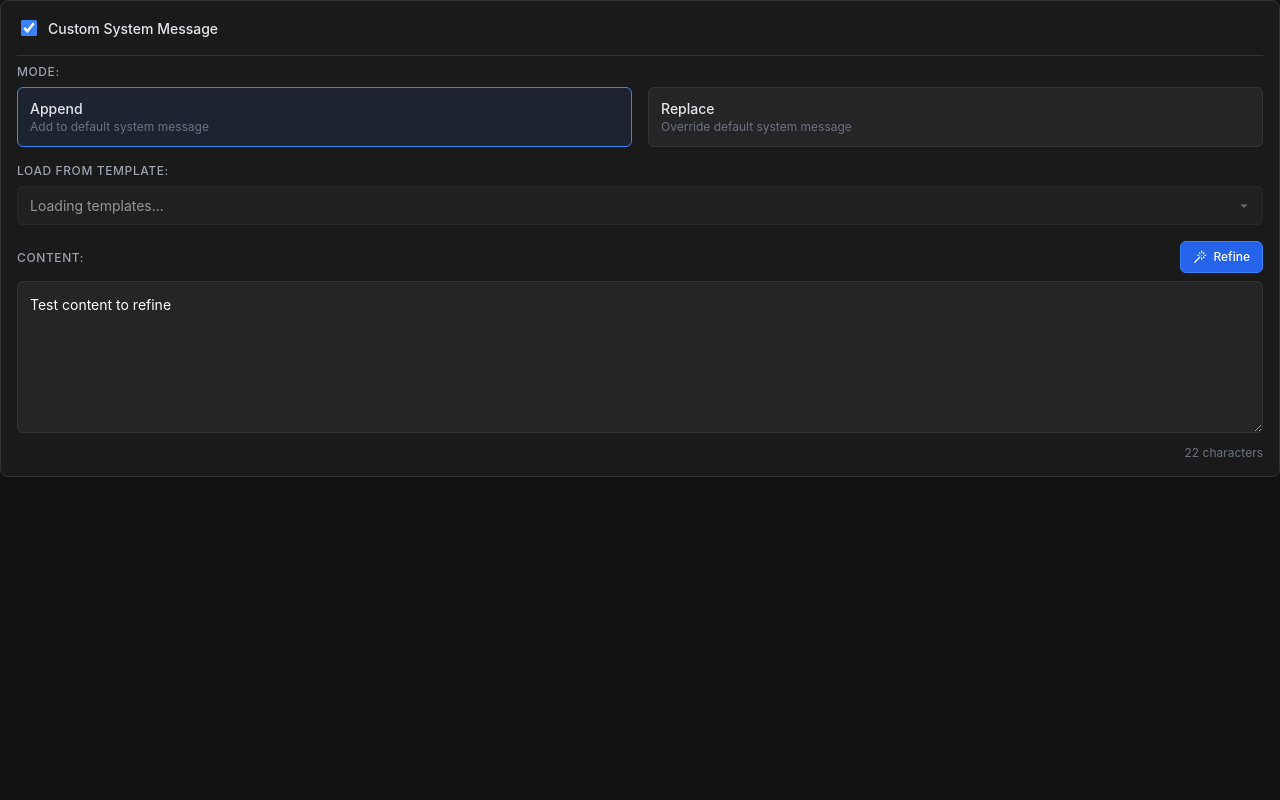
Test case: SystemMessageEditor › refine button › allows dismissing error message
The image size is (1280, 800).
Click the button with test id "refine-button". click: x=1222, y=257
box: [1180,241,1263,273]
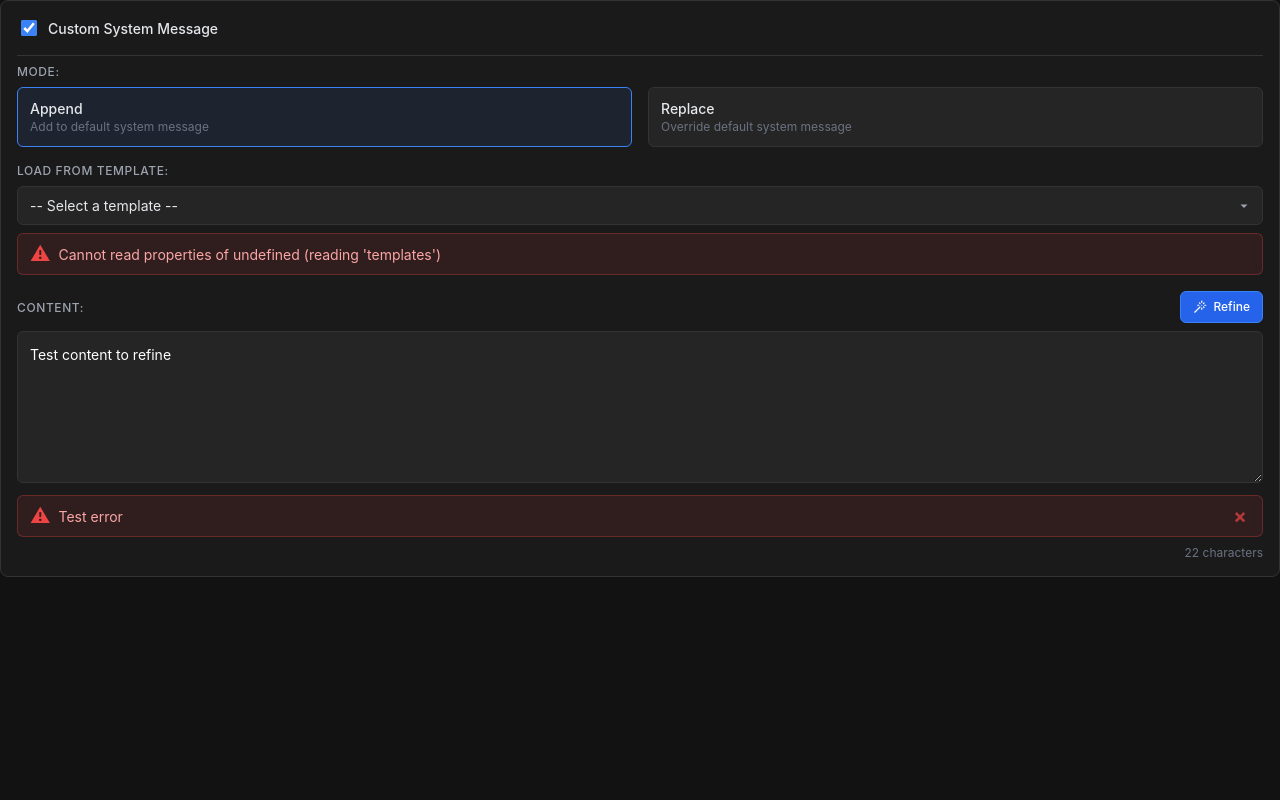
Expected: the message "⚠ Test error ×" is shown, [17,495,1263,537]
Click the button named "Dismiss error". click: x=1240, y=516
box: [1230,506,1250,526]
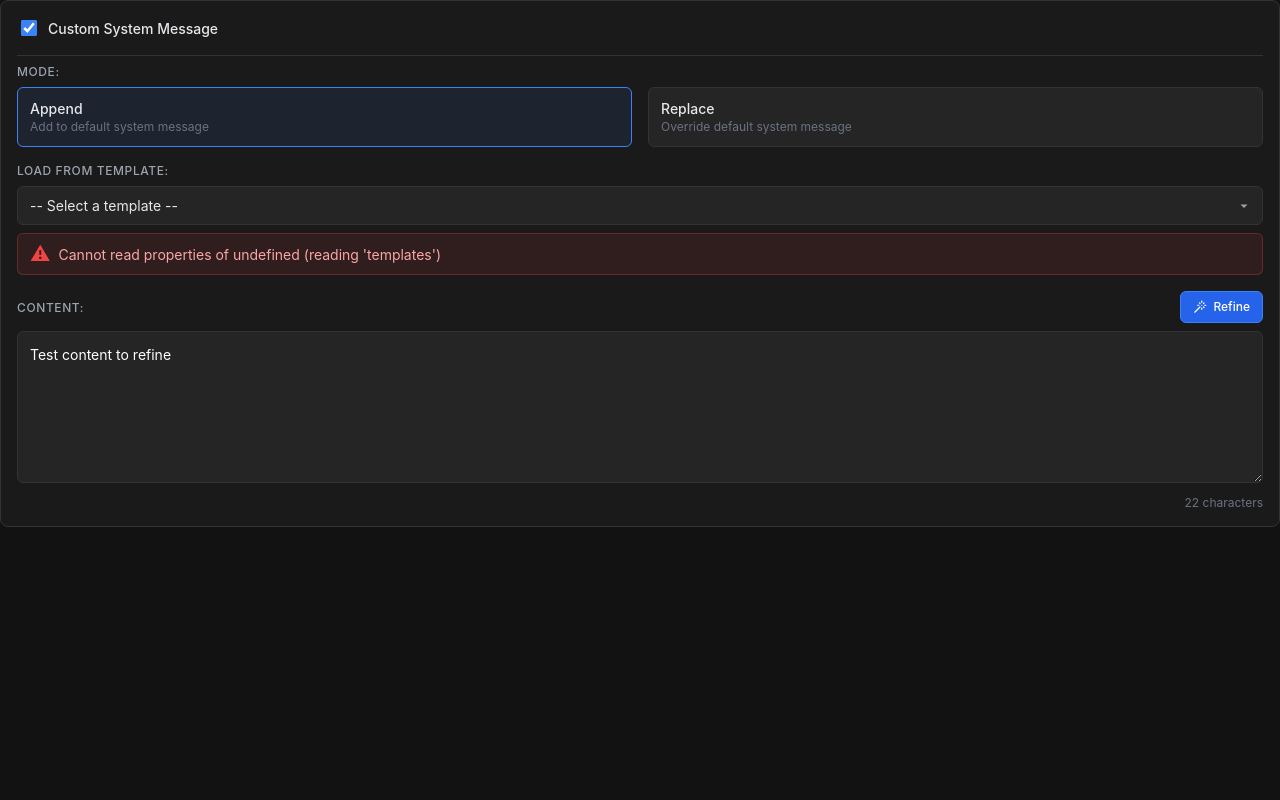
Expected: the message with test id "refine-error" is gone
